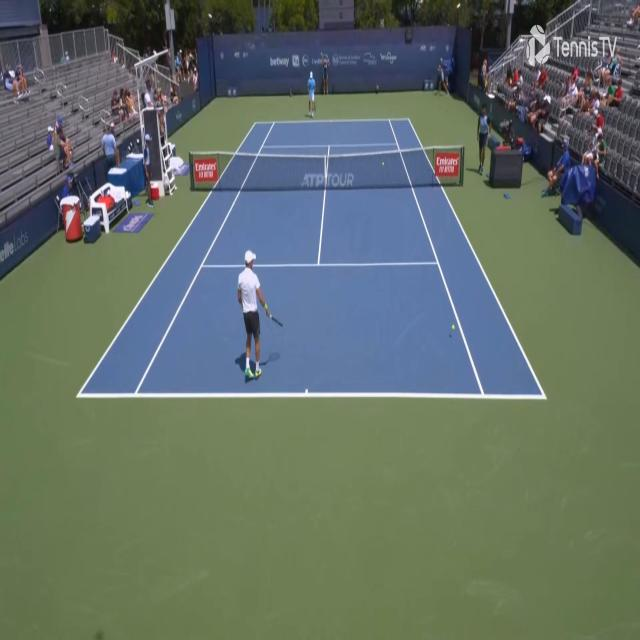tennis-player: (235, 246, 285, 384), (306, 68, 317, 118)
